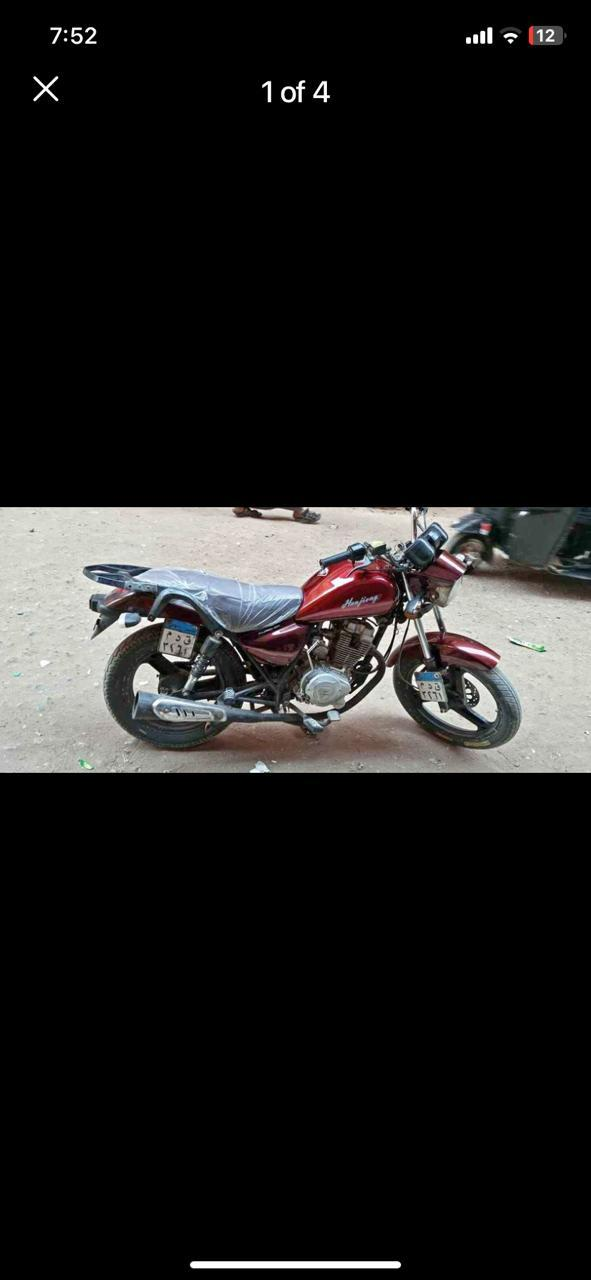License Plate: (160, 616, 198, 661), (413, 671, 447, 702)
